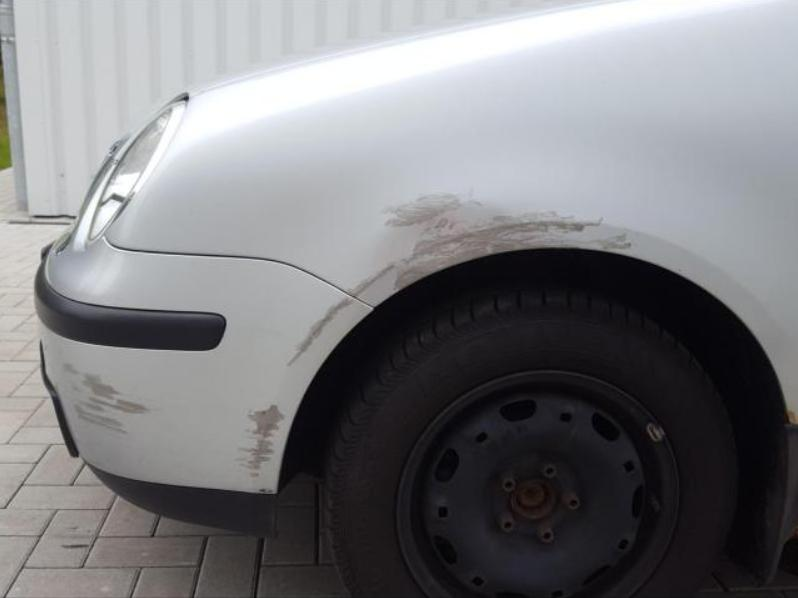Scratch: (282, 180, 636, 371), (57, 359, 158, 436), (234, 401, 286, 480)
